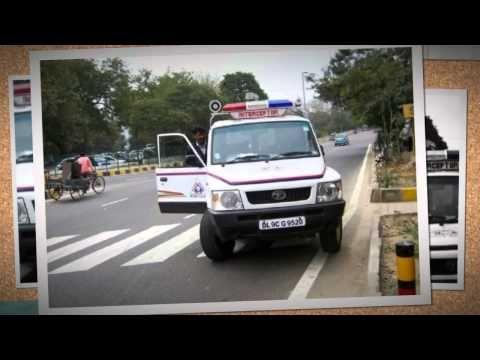Emergency-Vehicles: (143, 92, 347, 254)
